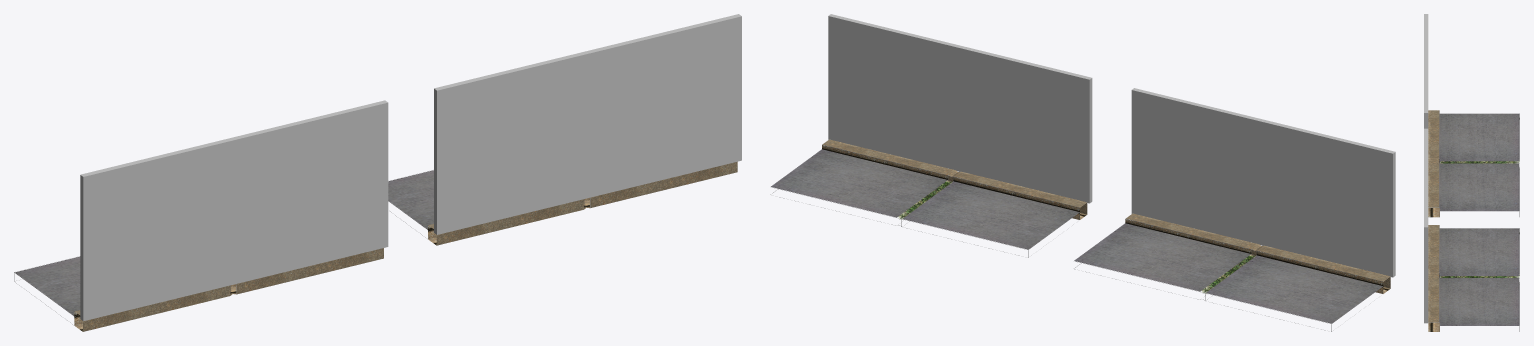
The model's file is sidewalk_wall_test.fbx.
The picture shows the model from 3 angles, left to right: view 1: azimuth 30°, elevation 25°; view 2: azimuth 150°, elevation 25°; view 3: azimuth 270°, elevation 25°; orthographic projection. The views are drawn at different scales.
Parts seen in each view (by area): view 1: pCube3, pCube2, polySurface4, polySurface2, polySurface3, polySurface1; view 2: pCube3, pCube2, polySurface1, polySurface3, polySurface2, polySurface4; view 3: polySurface3, polySurface1, polySurface4, polySurface2, pCube2, pCube3.
Part boxes in pixels (x1=…): pCube3: x1=80, y1=100, x2=388, y2=321; pCube2: x1=434, y1=14, x2=741, y2=234; polySurface4: x1=74, y1=248, x2=383, y2=331; polySurface2: x1=428, y1=161, x2=737, y2=245; polySurface3: x1=14, y1=256, x2=80, y2=325; polySurface1: x1=388, y1=170, x2=433, y2=239; pCube3: x1=1131, y1=88, x2=1395, y2=277; pCube2: x1=828, y1=14, x2=1092, y2=203; polySurface1: x1=770, y1=149, x2=1079, y2=257; polySurface3: x1=1074, y1=223, x2=1382, y2=331; polySurface2: x1=822, y1=139, x2=1087, y2=219; polySurface4: x1=1125, y1=213, x2=1390, y2=293; polySurface3: x1=1439, y1=113, x2=1519, y2=216; polySurface1: x1=1439, y1=228, x2=1519, y2=331; polySurface4: x1=1428, y1=110, x2=1439, y2=217; polySurface2: x1=1428, y1=225, x2=1439, y2=331; pCube2: x1=1424, y1=128, x2=1428, y2=323; pCube3: x1=1424, y1=14, x2=1428, y2=128.
Size of the model in its own units: 51.77 by 11.87 by 9.82.
